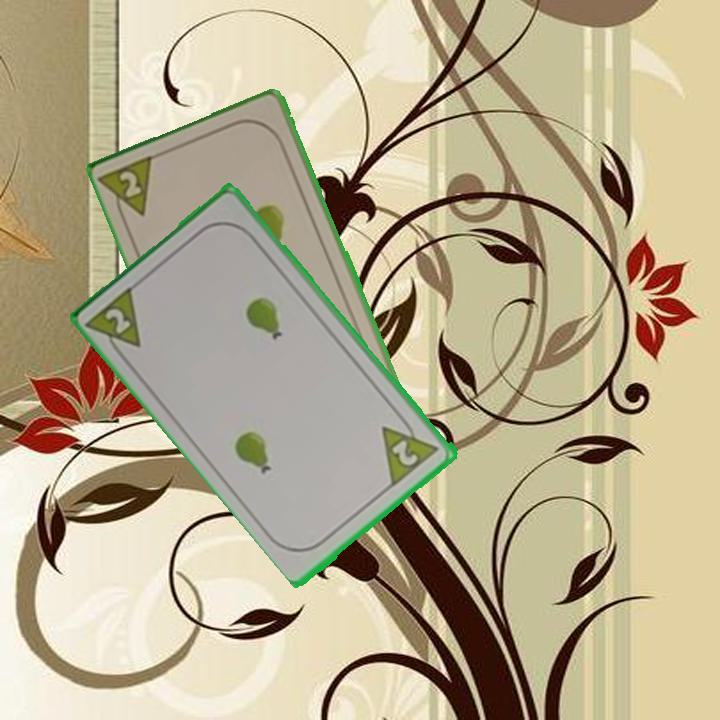2p: (84, 281, 145, 365), (98, 151, 160, 228), (389, 436, 422, 470)
